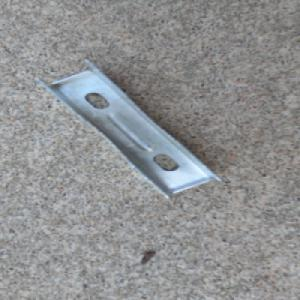ClampPart: (33, 58, 224, 199)
